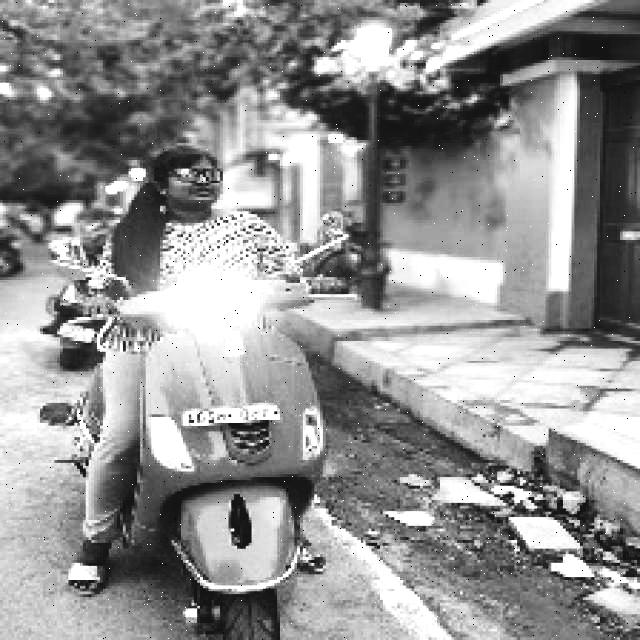Bike: (119, 279, 323, 639)
